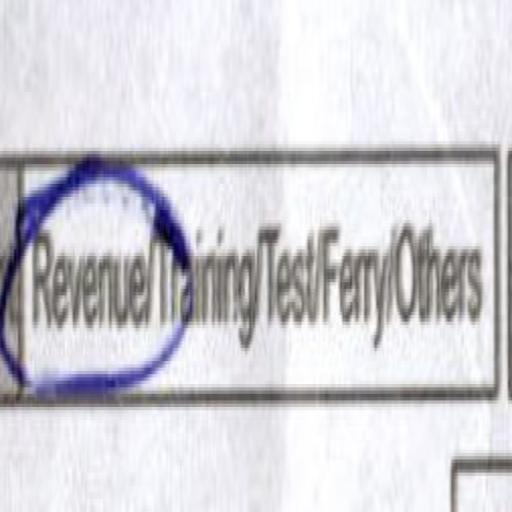check: (22, 119, 153, 503)
